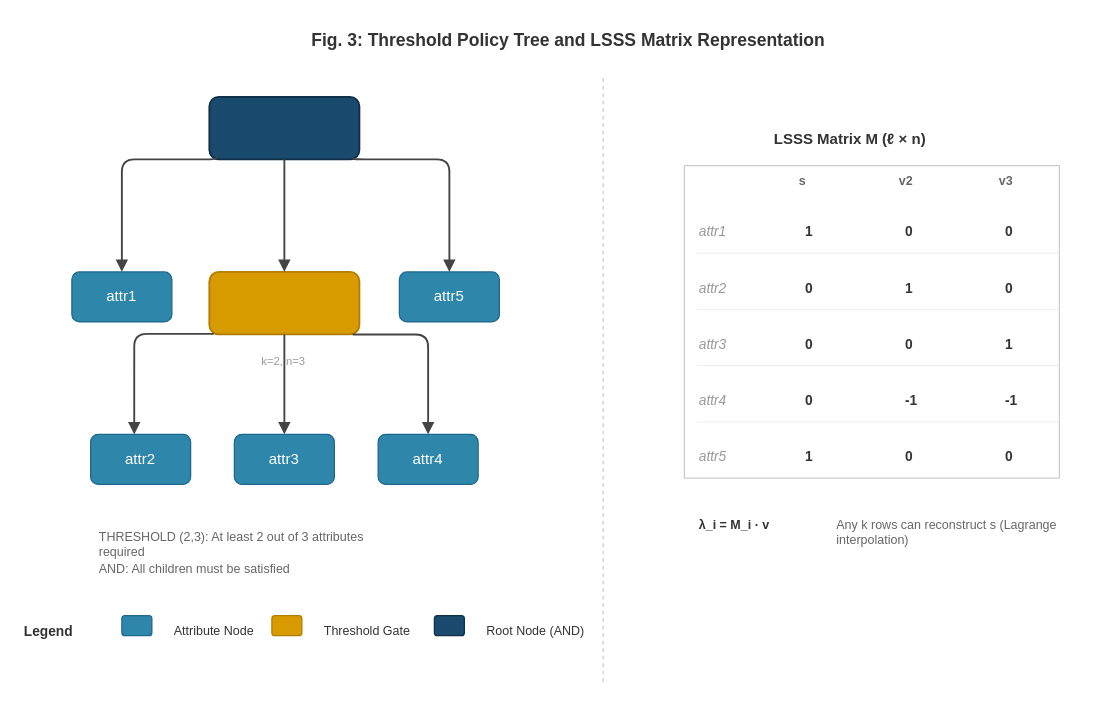
The diagram is 1093 pixels wide and 718 high, and some of its shapes have lost their labels. The shapes that lost their labels are listed below. From the top down, each one's centre as x and y in pixels, then its label:
At (x=284, y=127): "AND (Root)".
At (x=284, y=302): "THRESHOLD (2,3)".
